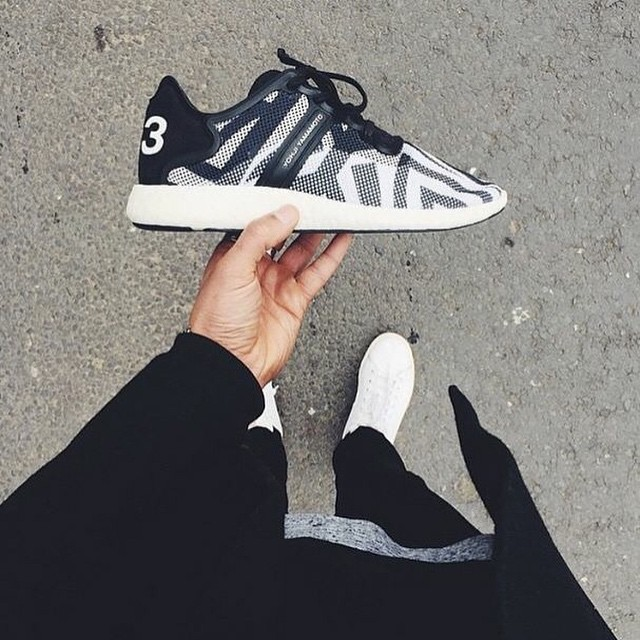sneaker: (335, 320, 431, 454), (233, 362, 297, 443)
